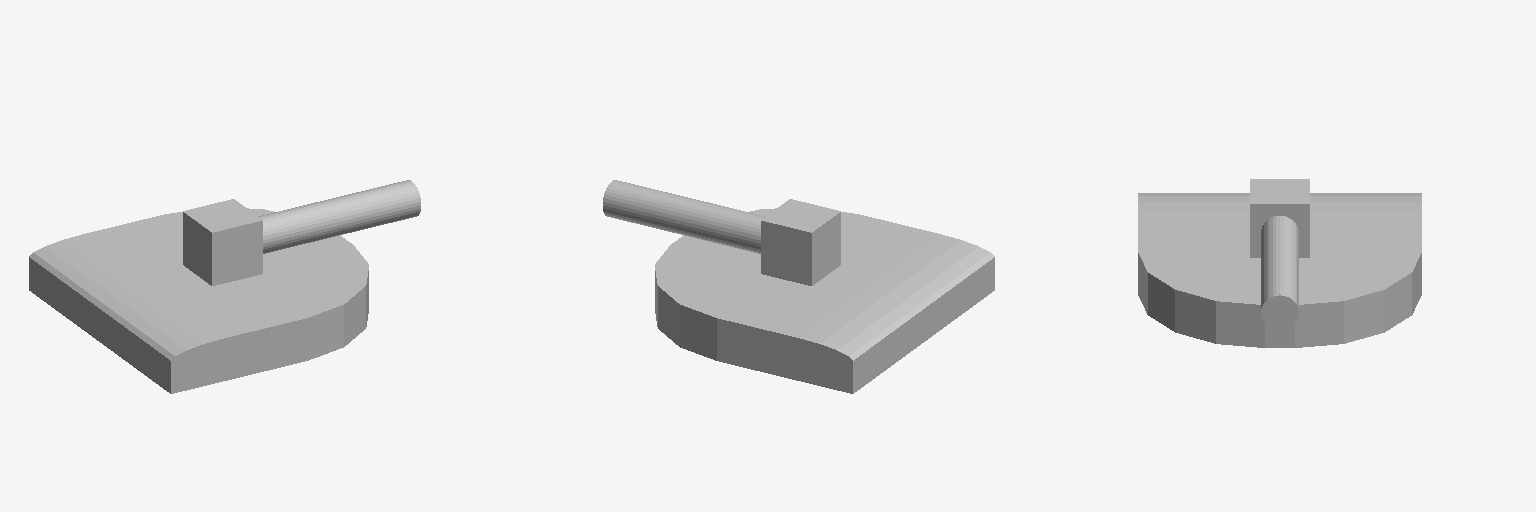
The model's file is turret.obj.
3 views of the same model, side by side, from view 1: azimuth 30°, elevation 25°; view 2: azimuth 150°, elevation 25°; view 3: azimuth 270°, elevation 25° (orthographic).
Visible parts, largest first — view 1: Cube.002; view 2: Cube.002; view 3: Cube.002.
Boxes of the visible parts, x1=… form: Cube.002: x1=29, y1=180, x2=420, y2=393; Cube.002: x1=603, y1=180, x2=994, y2=393; Cube.002: x1=1138, y1=179, x2=1421, y2=347.
Bounding box in the file's own units: 3.81 × 1.12 × 3.